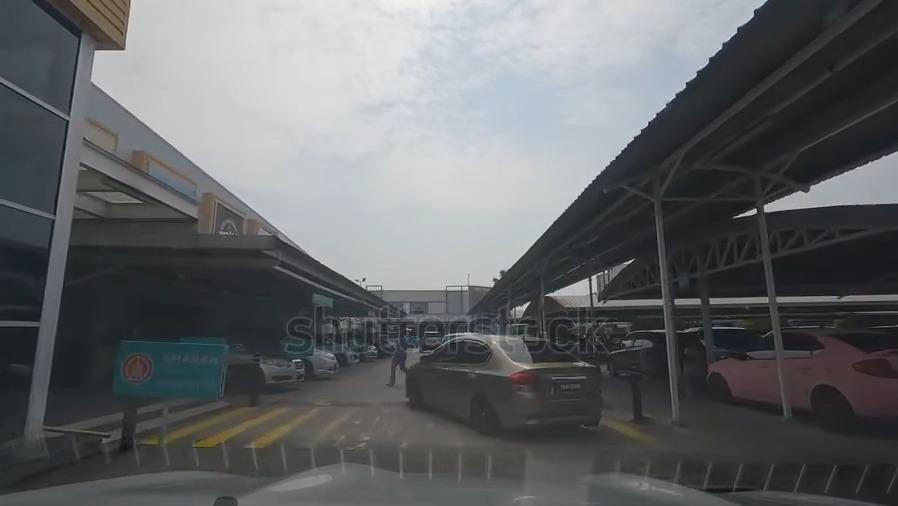car: (406, 340, 599, 426), (706, 335, 898, 419), (86, 343, 300, 391), (609, 332, 701, 379), (299, 343, 335, 378), (334, 341, 356, 363), (422, 329, 442, 346), (358, 339, 375, 358)
manhole: (700, 482, 755, 495)
pedestrian: (136, 412, 691, 458)
person: (390, 327, 409, 383)
speedbump: (273, 396, 410, 409)
wheel: (471, 393, 495, 433), (229, 367, 259, 391), (405, 379, 421, 408)
